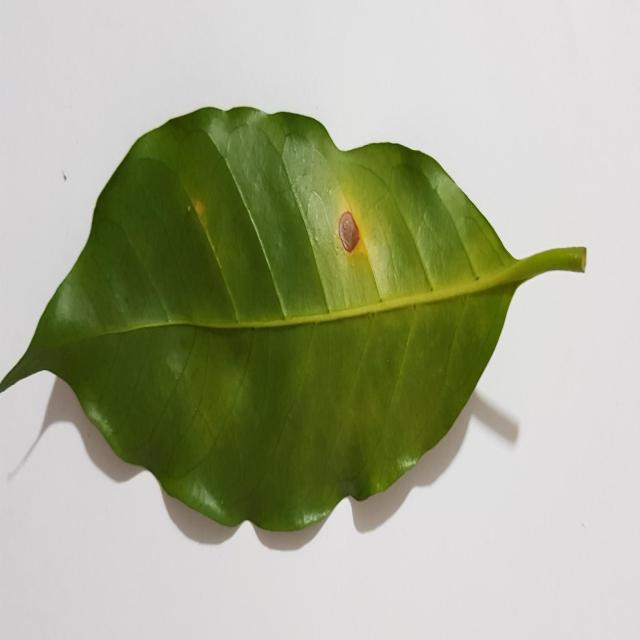Enfermedad-Mancha-de-hierro: (0, 107, 588, 545)
